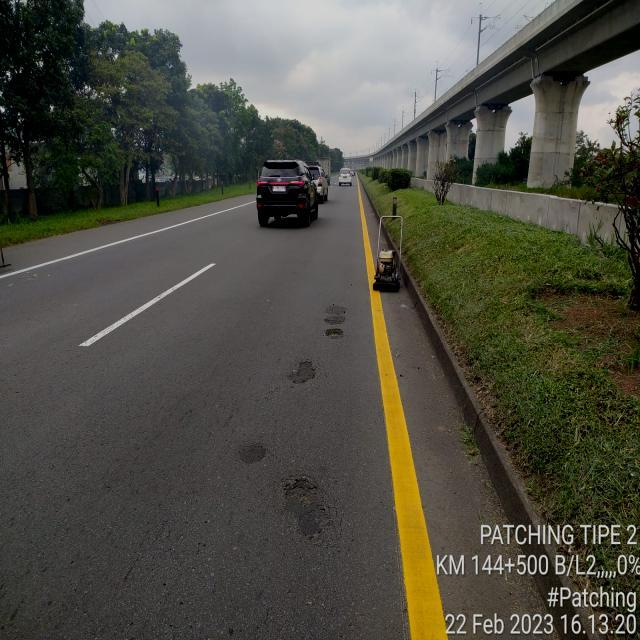Buraco: (322, 327, 346, 341)
